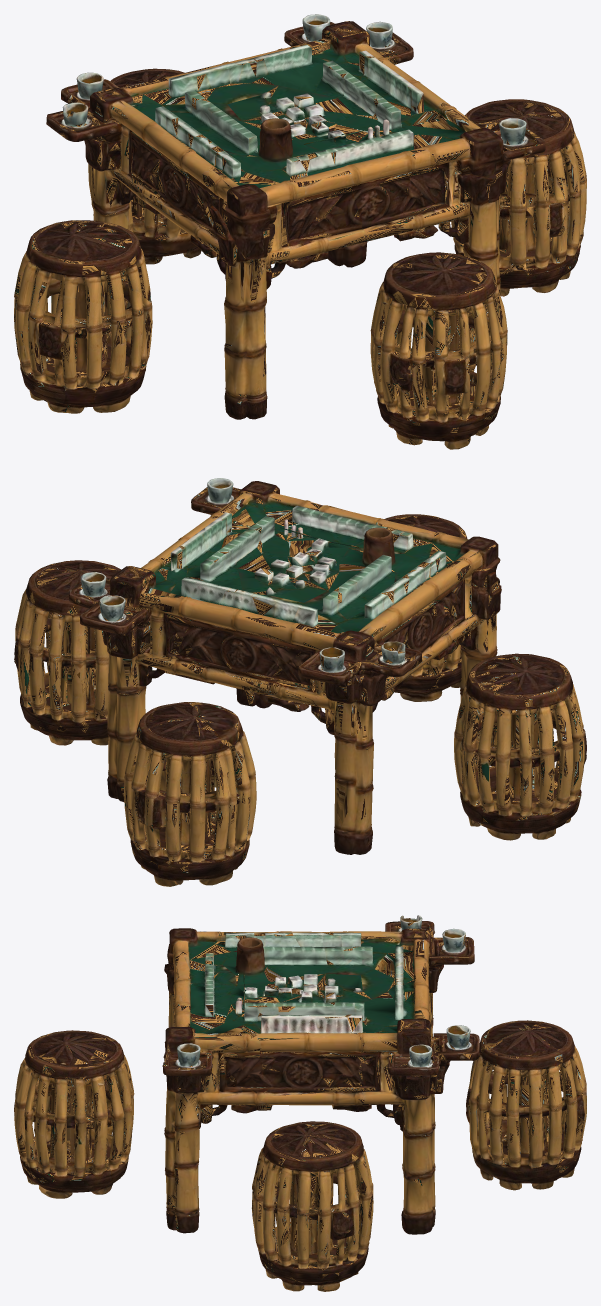
Rendered from games.glb.
3 renders of one model, top to bottom at view 1: azimuth 30°, elevation 25°; view 2: azimuth 150°, elevation 25°; view 3: azimuth 270°, elevation 25°, orthographic. The views are drawn at different scales.
Bounding box in the file's own units: 1.9 × 0.7969 × 1.9.
Materials: 1 (1 with a texture image).
